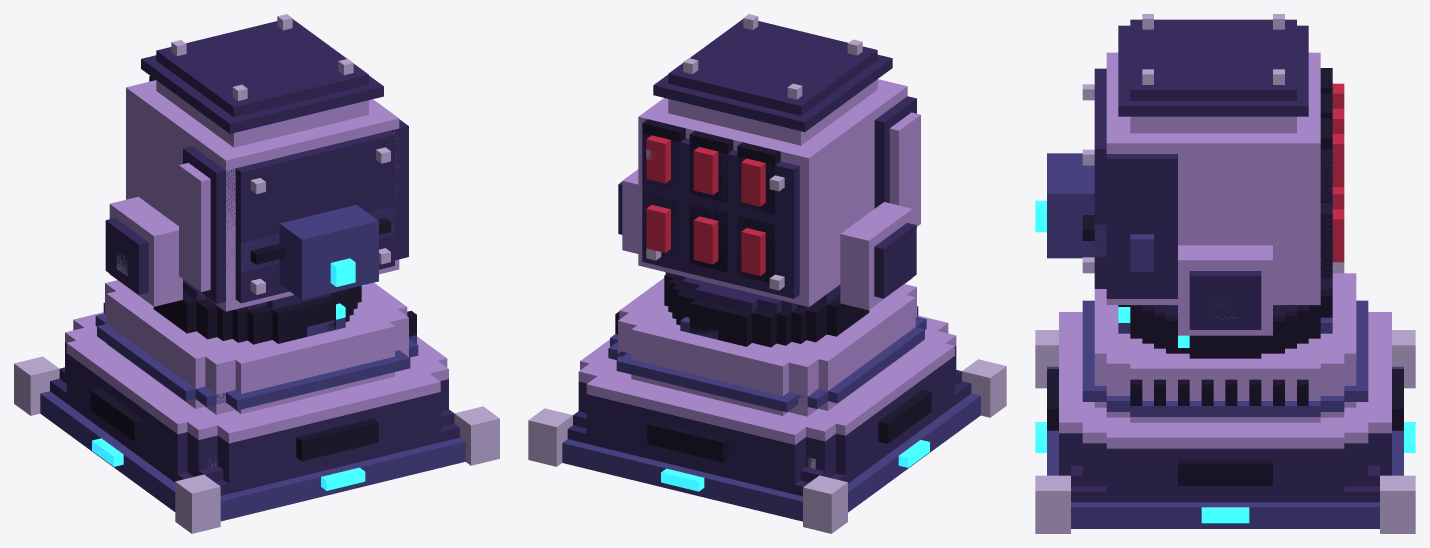
The model's file is missile-pod.md.glb.
The picture shows the model from 3 angles, left to right: view 1: azimuth 30°, elevation 25°; view 2: azimuth 150°, elevation 25°; view 3: azimuth 270°, elevation 25°; orthographic projection. The views are drawn at different scales.
Parts seen in each view (by area): view 1: missile-pod.md; view 2: missile-pod.md; view 3: missile-pod.md.
Part boxes in pixels (x1,y1,x2,y2): missile-pod.md: (14,14,499,533); missile-pod.md: (528,14,1006,533); missile-pod.md: (1035,14,1415,533).
Bounding box in the file's own units: 2 × 2.38 × 2.
